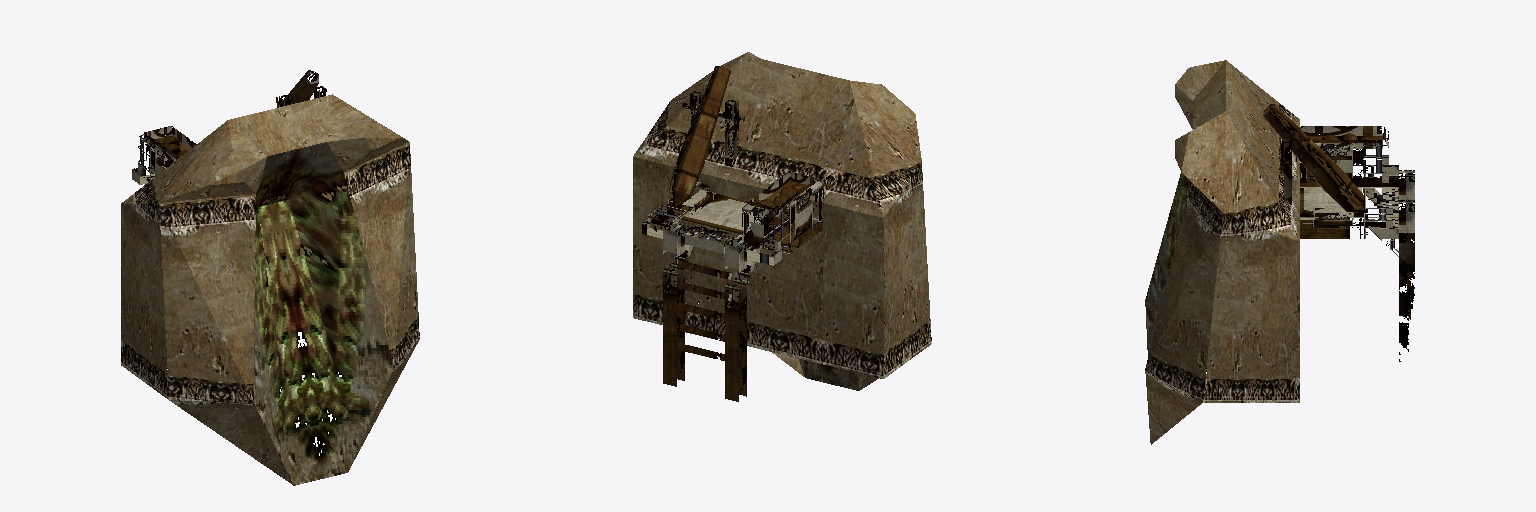
The picture shows the model from 3 angles: view 1: azimuth 30°, elevation 25°; view 2: azimuth 150°, elevation 25°; view 3: azimuth 270°, elevation 25°; orthographic projection.
Visible parts, largest first — view 1: Mesh_0, Mesh_1, Mesh_2; view 2: Mesh_0, Mesh_2, Mesh_1; view 3: Mesh_0, Mesh_2, Mesh_1.
Boxes of the visible parts, x1=… form: Mesh_0: x1=121, y1=94, x2=419, y2=485; Mesh_1: x1=253, y1=142, x2=393, y2=485; Mesh_2: x1=132, y1=70, x2=326, y2=203; Mesh_0: x1=633, y1=52, x2=931, y2=389; Mesh_2: x1=642, y1=66, x2=823, y2=401; Mesh_1: x1=799, y1=164, x2=866, y2=390; Mesh_0: x1=1145, y1=60, x2=1299, y2=444; Mesh_2: x1=1263, y1=104, x2=1414, y2=361; Mesh_1: x1=1145, y1=172, x2=1190, y2=355.
Size of the model in its own units: 3 by 4.03 by 2.79.
Materials: 3 (3 with a texture image).